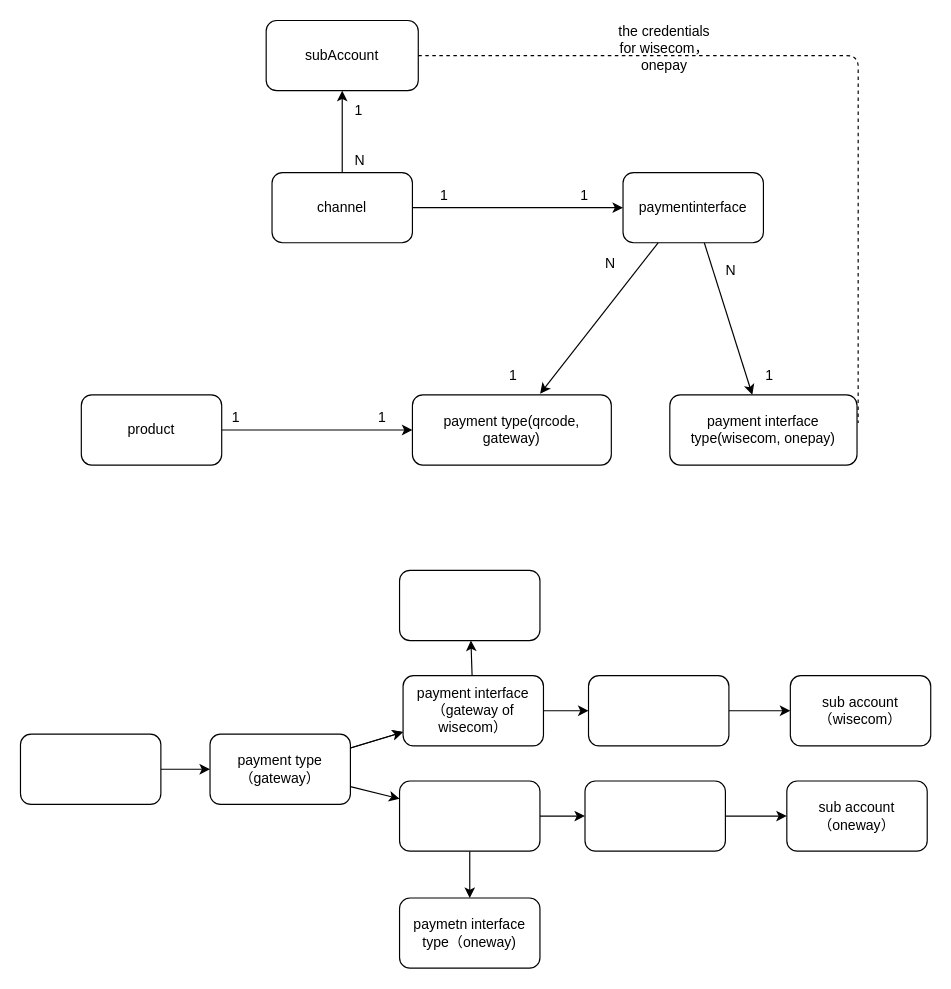
The diagram is 951 pixels wide and 989 high, and some of its shapes have lost their labels. Here are the shapes that lost their labels. From the top down, the centre of each, then its label:
(469,605): paymetn interface type( wisecom)
(658,710): channel（wisecom）
(90,768): product（online bank transfer）
(469,815): payment type（gateway of oneway）
(654,815): channel（oneway）
